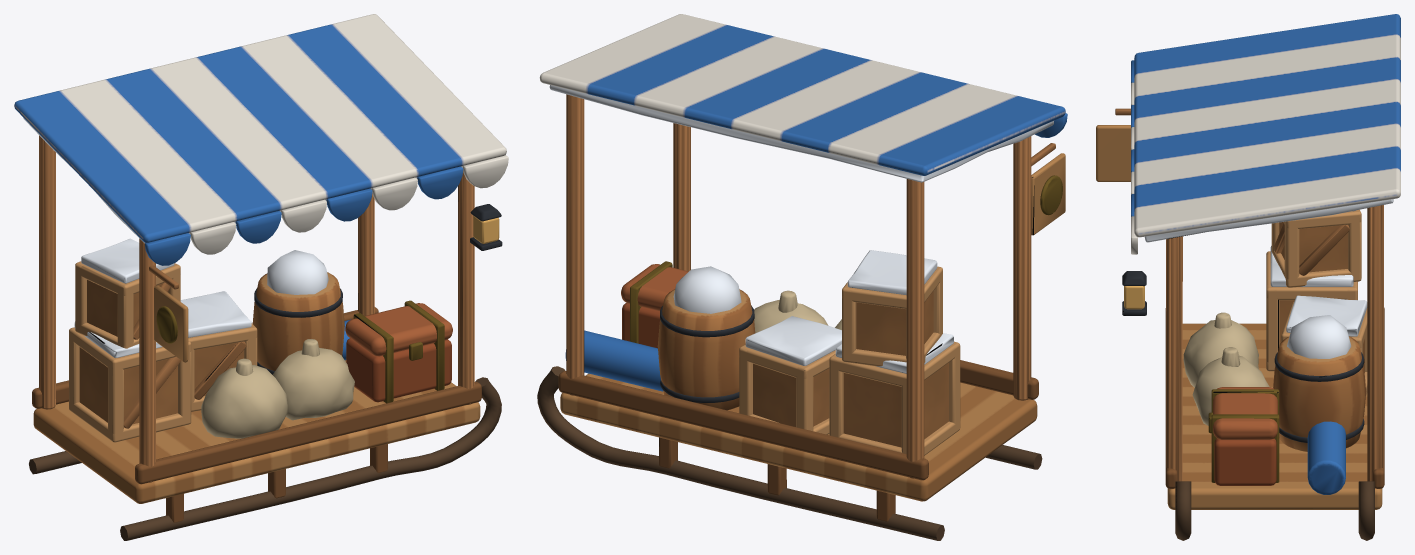
The model's file is trade_post.glb.
3 views of the same model, side by side, from view 1: azimuth 30°, elevation 25°; view 2: azimuth 150°, elevation 25°; view 3: azimuth 270°, elevation 25° (orthographic). The views are drawn at different scales.
Visible parts, largest first — view 1: awning, runner, runner.001; view 2: awning, runner.001, runner; view 3: awning, runner, runner.001.
Boxes of the visible parts, bbox=[...] form: awning: bbox=[14, 14, 508, 522]; runner: bbox=[120, 377, 501, 540]; runner.001: bbox=[29, 451, 81, 474]; awning: bbox=[539, 14, 1067, 521]; runner.001: bbox=[537, 366, 944, 540]; runner: bbox=[985, 445, 1042, 469]; awning: bbox=[1096, 14, 1400, 509]; runner: bbox=[1175, 481, 1191, 540]; runner.001: bbox=[1358, 481, 1374, 540].
Bounding box in the file's own units: 2.98 × 2.73 × 2.06.
2 materials, 1 textured.
